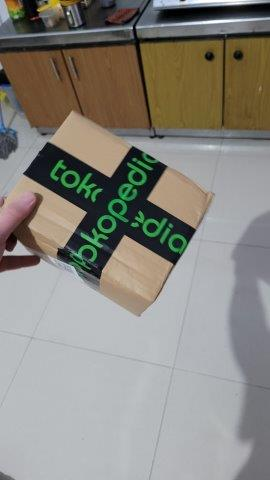kardus: (6, 109, 214, 315)
